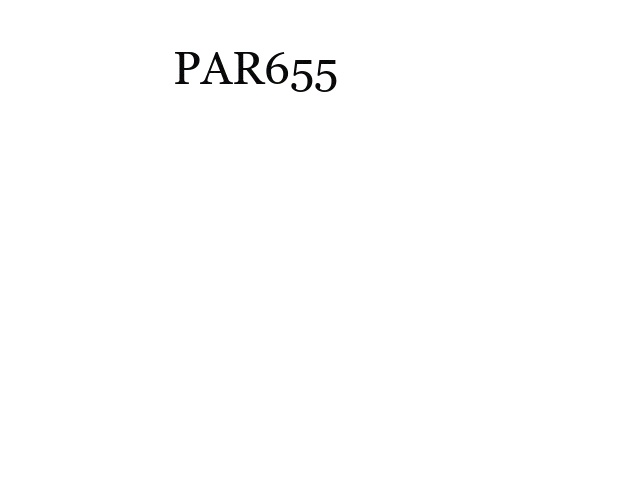OCR_AREA: (169, 48, 342, 96)
